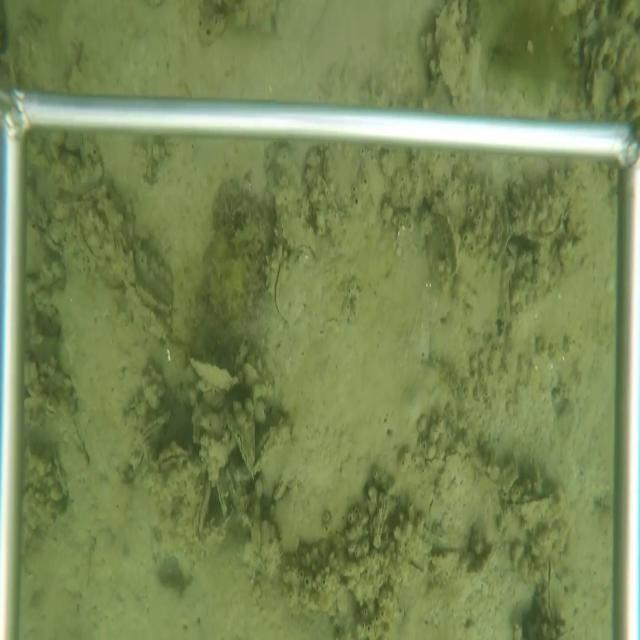Oyster-Closed: (268, 241, 322, 340), (222, 409, 257, 485), (500, 490, 560, 533), (254, 423, 296, 481), (537, 551, 558, 628), (191, 475, 213, 546), (156, 440, 192, 475), (224, 460, 244, 499), (215, 475, 230, 518)
Oyster-Indeterminate: (434, 2, 472, 107), (191, 354, 242, 394)
